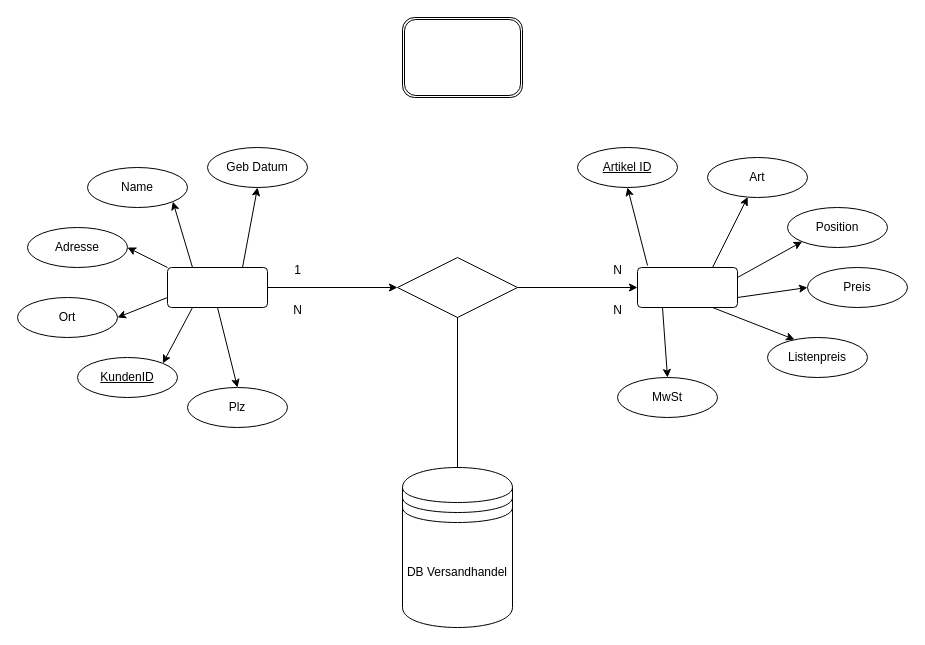
Image size: 925x645. Some labels were removed from this diagram. The centre of each missing label's shape, as x and y in pixels:
"Artikel" belongs at (687,287).
"ERD" belongs at (462,57).
"kaufen" belongs at (457,287).
"Kunden" belongs at (217,287).
